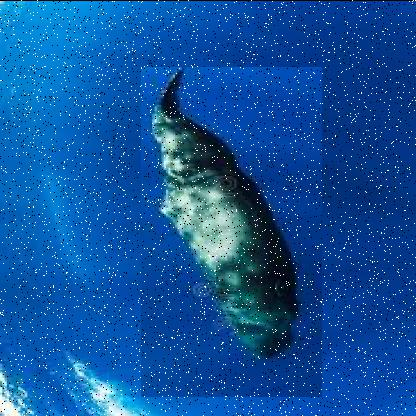sperm_whale: (141, 65, 323, 396)
